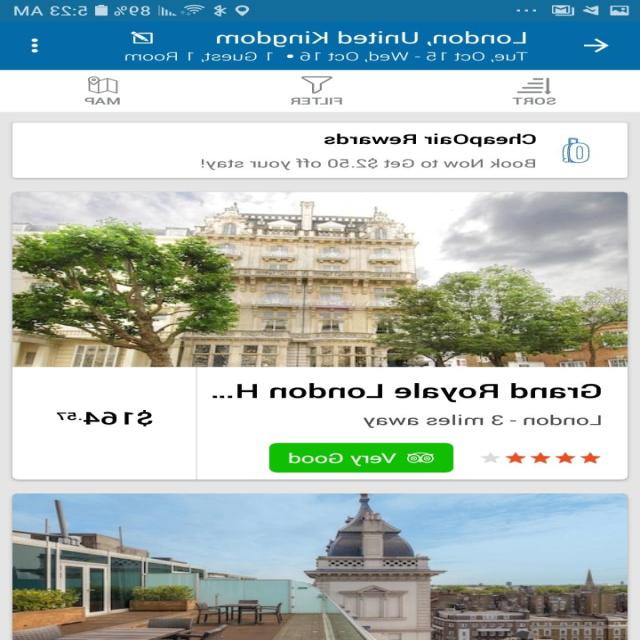Icon: (481, 452, 601, 463), (516, 78, 552, 94), (88, 76, 118, 93), (584, 38, 610, 53), (130, 31, 154, 44), (31, 36, 40, 52)
Image: (12, 192, 628, 367), (14, 493, 628, 640), (562, 137, 590, 163), (302, 75, 334, 94)
Text: (212, 383, 601, 402), (217, 30, 527, 48), (202, 157, 536, 170), (125, 52, 529, 62), (364, 414, 602, 428), (324, 133, 537, 147), (57, 409, 154, 426), (290, 96, 344, 105), (512, 97, 558, 105), (85, 96, 122, 105)
TextButton: (270, 442, 454, 473)
